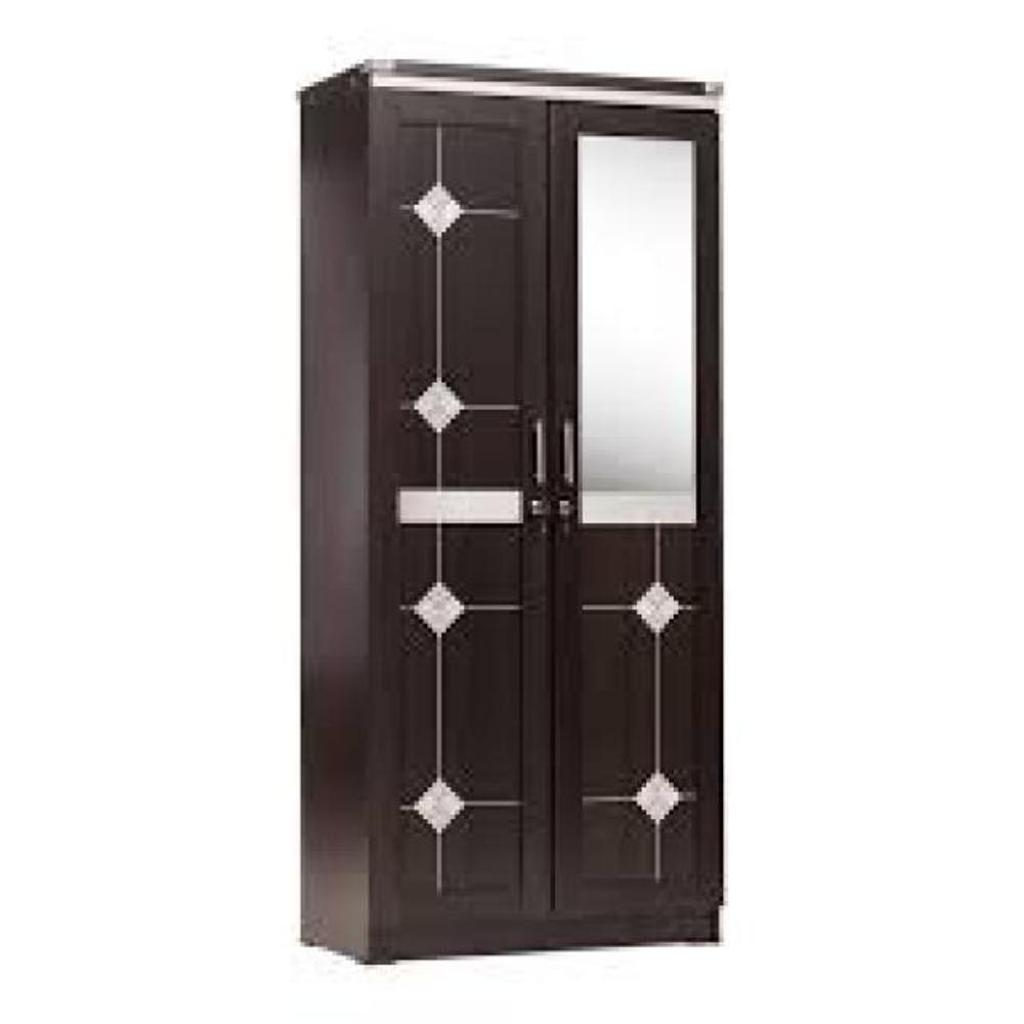cabinet: (301, 52, 734, 971)
